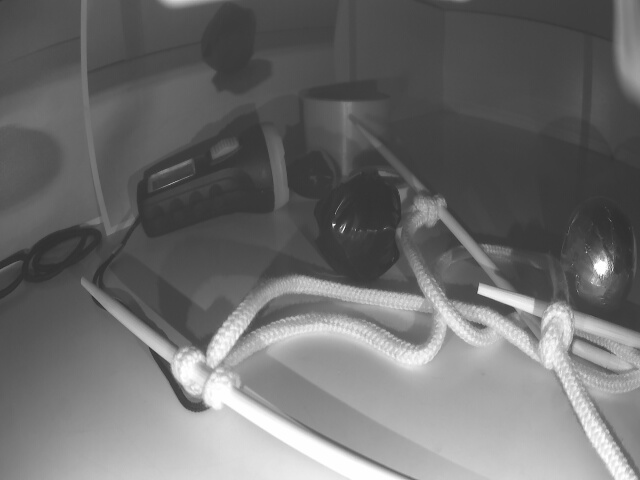Dead: (321, 168, 406, 283)
Live: (558, 196, 639, 308)
